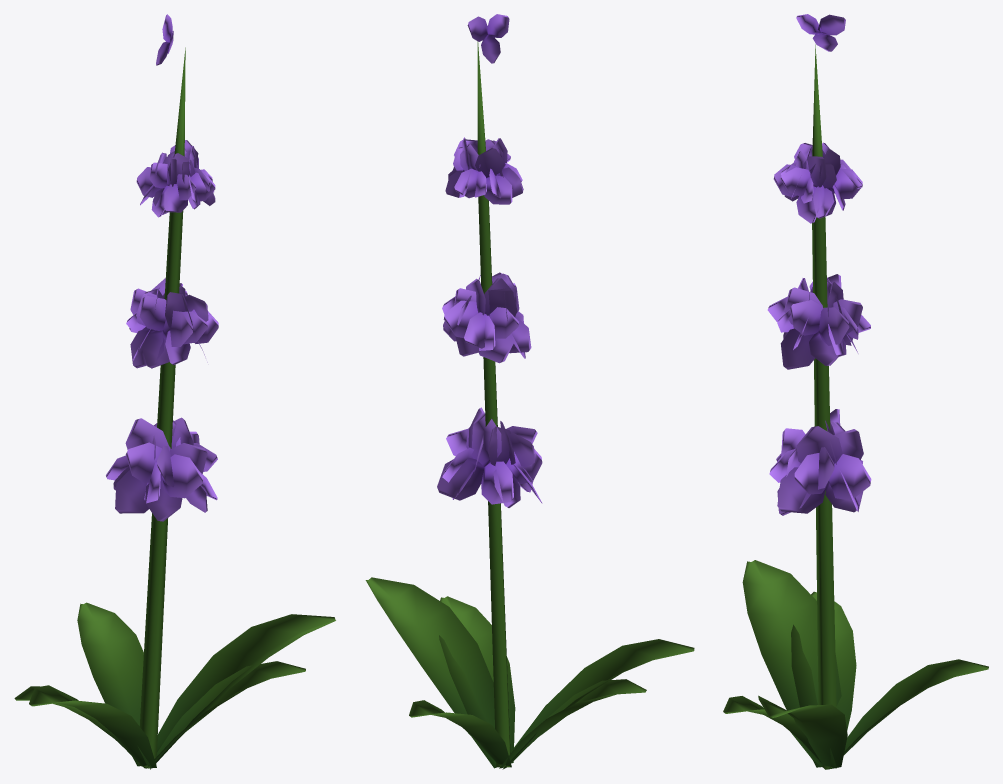
The model's file is flower-lupine.glb.
3 views of the same model, side by side, from view 1: azimuth 30°, elevation 25°; view 2: azimuth 150°, elevation 25°; view 3: azimuth 270°, elevation 25° (orthographic). The views are drawn at different scales.
Visible parts, largest first — view 1: Flower_Lupine; view 2: Flower_Lupine; view 3: Flower_Lupine.
Boxes of the visible parts, x1=… form: Flower_Lupine: x1=14, y1=14, x2=335, y2=769; Flower_Lupine: x1=365, y1=14, x2=694, y2=769; Flower_Lupine: x1=723, y1=14, x2=988, y2=769.
Bounding box in the file's own units: 0.2127 × 0.4769 × 0.1501.
